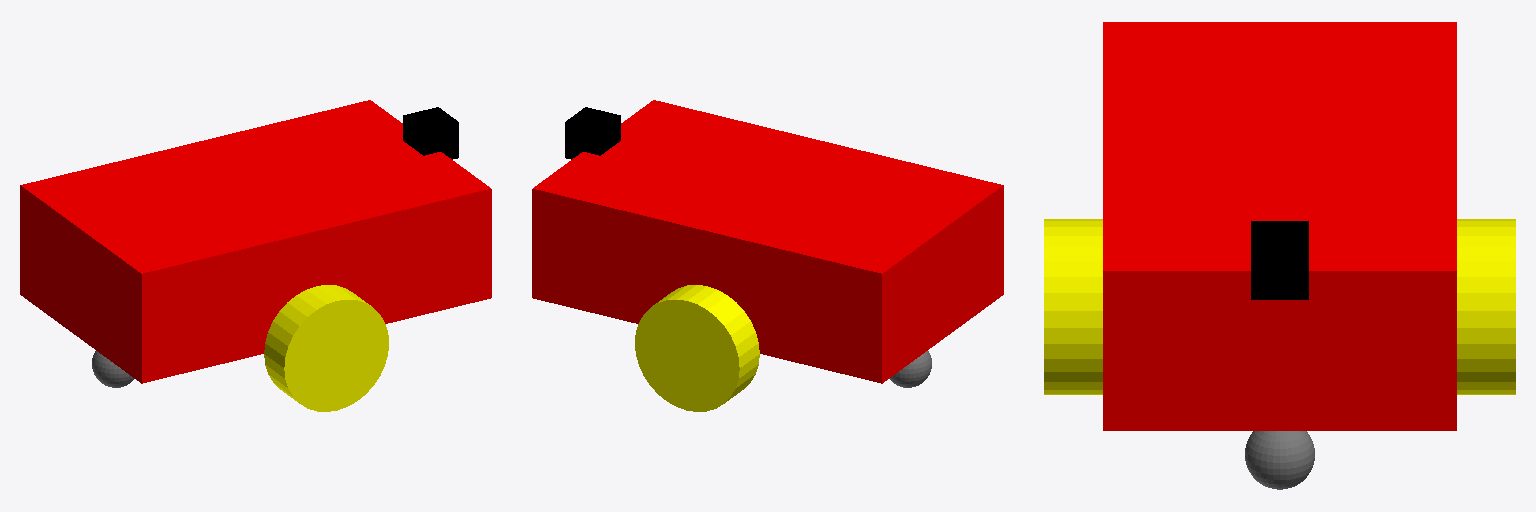
The robot description file, URDF, robot "ros_dd_gazebo":
<?xml version="1.0" ?>
<!-- =================================================================================== -->
<!-- |    This document was autogenerated by xacro from src/ros_dd_simulation/ros_dd_description/urdf/ros_dd.xacro | -->
<!-- |    EDITING THIS FILE BY HAND IS NOT RECOMMENDED                                 | -->
<!-- =================================================================================== -->
<robot name="ros_dd_gazebo">
  <link name="base_footprint"/>
  <link name="base_link">
    <visual>
      <origin rpy="0 0 0" xyz="0 0 0.075"/>
      <geometry>
        <box size="0.5 0.3 0.15"/>
      </geometry>
      <material name="red">
        <color rgba="1 0 0 1"/>
      </material>
    </visual>
    <collision>
      <origin rpy="0 0 0" xyz="0 0 0.075"/>
      <geometry>
        <box size="0.5 0.3 0.15"/>
      </geometry>
    </collision>
    <inertial>
      <origin rpy="0 0 0" xyz="0 0 0.075"/>
      <mass value="3.0"/>
      <inertia ixx="0.01" ixy="0.0" ixz="0.0" iyy="0.01" iyz="0.0" izz="0.01"/>
    </inertial>
  </link>
  <joint name="base_joint" type="fixed">
    <parent link="base_footprint"/>
    <child link="base_link"/>
    <origin rpy="0 0 0" xyz="0 0 0.075"/>
  </joint>
  <link name="left_wheel_link">
    <visual>
      <origin rpy="1.570795 0 0" xyz="0 0 0"/>
      <geometry>
        <cylinder length="0.05" radius="0.075"/>
      </geometry>
      <material name="yellow">
        <color rgba="1 1 0 1"/>
      </material>
    </visual>
    <collision>
      <origin rpy="1.570795 0 0" xyz="0 0 0"/>
      <geometry>
        <cylinder length="0.05" radius="0.075"/>
      </geometry>
    </collision>
    <inertial>
      <mass value="0.2"/>
      <inertia ixx="0.001" ixy="0.0" ixz="0.0" iyy="0.001" iyz="0.0" izz="0.001"/>
    </inertial>
  </link>
  <link name="right_wheel_link">
    <visual>
      <origin rpy="1.570795 0 0" xyz="0 0 0"/>
      <geometry>
        <cylinder length="0.05" radius="0.075"/>
      </geometry>
      <material name="yellow">
        <color rgba="1 1 0 1"/>
      </material>
    </visual>
    <collision>
      <origin rpy="1.570795 0 0" xyz="0 0 0"/>
      <geometry>
        <cylinder length="0.05" radius="0.075"/>
      </geometry>
    </collision>
    <inertial>
      <mass value="0.2"/>
      <inertia ixx="0.001" ixy="0.0" ixz="0.0" iyy="0.001" iyz="0.0" izz="0.001"/>
    </inertial>
  </link>
  <joint name="left_wheel_joint" type="continuous">
    <parent link="base_link"/>
    <child link="left_wheel_link"/>
    <origin rpy="0 0 0" xyz="0 0.175 0"/>
    <axis xyz="0 1 0"/>
  </joint>
  <joint name="right_wheel_joint" type="continuous">
    <parent link="base_link"/>
    <child link="right_wheel_link"/>
    <origin rpy="0 0 0" xyz="0 -0.175 0"/>
    <axis xyz="0 1 0"/>
  </joint>
  <link name="front_caster_link">
    <visual>
      <geometry>
        <sphere radius="0.03"/>
      </geometry>
      <material name="grey">
        <color rgba="0.5 0.5 0.5 1"/>
      </material>
    </visual>
    <collision>
      <geometry>
        <sphere radius="0.03"/>
      </geometry>
    </collision>
    <inertial>
      <mass value="0.1"/>
      <inertia ixx="0.0001" ixy="0.0" ixz="0.0" iyy="0.0001" iyz="0.0" izz="0.0001"/>
    </inertial>
  </link>
  <joint name="front_caster_joint" type="fixed">
    <parent link="base_link"/>
    <child link="front_caster_link"/>
    <origin xyz="0.2 0 -0.045"/>
  </joint>
  <link name="rear_caster_link">
    <visual>
      <geometry>
        <sphere radius="0.03"/>
      </geometry>
      <material name="grey">
        <color rgba="0.5 0.5 0.5 1"/>
      </material>
    </visual>
    <collision>
      <geometry>
        <sphere radius="0.03"/>
      </geometry>
    </collision>
    <inertial>
      <mass value="0.1"/>
      <inertia ixx="0.0001" ixy="0.0" ixz="0.0" iyy="0.0001" iyz="0.0" izz="0.0001"/>
    </inertial>
  </link>
  <joint name="rear_caster_joint" type="fixed">
    <parent link="base_link"/>
    <child link="rear_caster_link"/>
    <origin xyz="-0.2 0 -0.045"/>
  </joint>
  <link name="laser_link">
    <visual>
      <origin rpy="0 0 0" xyz="0 0 0"/>
      <geometry>
        <box size="0.05 0.05 0.05"/>
      </geometry>
      <material name="black">
        <color rgba="0 0 0 1"/>
      </material>
    </visual>
    <collision>
      <origin rpy="0 0 0" xyz="0 0 0"/>
      <geometry>
        <box size="0.05 0.05 0.05"/>
      </geometry>
    </collision>
    <inertial>
      <mass value="0.05"/>
      <inertia ixx="1e-4" ixy="0.0" ixz="0.0" iyy="1e-4" iyz="0.0" izz="1e-4"/>
    </inertial>
  </link>
  <joint name="laser_joint" type="fixed">
    <parent link="base_link"/>
    <child link="laser_link"/>
    <origin rpy="0 0 0" xyz="0.25 0 0.16"/>
  </joint>
  <gazebo reference="base_link">
    <self_collide>true</self_collide>
  </gazebo>
  <gazebo reference="left_wheel_link">
    <mu1>1.0</mu1>
    <mu2>1.0</mu2>
    <maxVel>1.0</maxVel>
    <minDepth>0.001</minDepth>
  </gazebo>
  <gazebo reference="right_wheel_link">
    <mu1>1.0</mu1>
    <mu2>1.0</mu2>
    <maxVel>1.0</maxVel>
    <minDepth>0.001</minDepth>
  </gazebo>
  <gazebo reference="front_caster_link">
    <mu1>0.0</mu1>
    <mu2>0.0</mu2>
    <maxVel>1.0</maxVel>
    <minDepth>0.001</minDepth>
  </gazebo>
  <gazebo reference="rear_caster_link">
    <mu1>0.0</mu1>
    <mu2>0.0</mu2>
    <maxVel>1.0</maxVel>
    <minDepth>0.001</minDepth>
  </gazebo>
  <!-- Gazebo Harmonic systems publish Gazebo Transport messages. -->
  <gazebo>
    <plugin filename="gz-sim-diff-drive-system" name="gz::sim::systems::DiffDrive">
      <left_joint>left_wheel_joint</left_joint>
      <right_joint>right_wheel_joint</right_joint>
      <wheel_separation>0.35</wheel_separation>
      <wheel_radius>0.075</wheel_radius>
      <topic>/cmd_vel</topic>
      <odom_topic>/odom</odom_topic>
      <tf_topic>/tf</tf_topic>
      <frame_id>odom</frame_id>
      <child_frame_id>base_footprint</child_frame_id>
      <odom_publish_frequency>50</odom_publish_frequency>
      <max_linear_acceleration>1.0</max_linear_acceleration>
      <max_angular_acceleration>3.2</max_angular_acceleration>
    </plugin>
    <plugin filename="gz-sim-joint-state-publisher-system" name="gz::sim::systems::JointStatePublisher">
      <topic>/joint_states</topic>
      <joint_name>left_wheel_joint</joint_name>
      <joint_name>right_wheel_joint</joint_name>
    </plugin>
  </gazebo>
  <gazebo reference="base_link">
    <sensor name="imu_sensor" type="imu">
      <always_on>true</always_on>
      <update_rate>100</update_rate>
      <topic>/imu/data</topic>
      <gz_frame_id>base_link</gz_frame_id>
      <imu/>
    </sensor>
  </gazebo>
  <gazebo reference="laser_link">
    <sensor name="laser_sensor" type="gpu_lidar">
      <pose>0 0 0 0 0 0</pose>
      <visualize>true</visualize>
      <update_rate>10</update_rate>
      <always_on>1</always_on>
      <lidar>
        <scan>
          <horizontal>
            <samples>360</samples>
            <resolution>1</resolution>
            <min_angle>-3.14159</min_angle>
            <max_angle>3.14159</max_angle>
          </horizontal>
        </scan>
        <range>
          <min>0.05</min>
          <max>8.0</max>
          <resolution>0.01</resolution>
        </range>
        <noise>
          <type>gaussian</type>
          <mean>0.0</mean>
          <stddev>0.01</stddev>
        </noise>
      </lidar>
      <topic>/scan</topic>
      <gz_frame_id>laser_link</gz_frame_id>
    </sensor>
  </gazebo>
</robot>

--- What the picture shows (computed from the rendered views, not written in the file) ---
The picture shows the robot from 3 angles, left to right: view 1: azimuth 30°, elevation 25°; view 2: azimuth 150°, elevation 25°; view 3: azimuth 270°, elevation 25°; orthographic projection.
Model ros_dd_gazebo with 7 links and 6 joints (2 continuous, 4 fixed), rooted at base_footprint, posed all joints at 0.
Visible links, largest first — view 1: base_link, right_wheel_link, laser_link, rear_caster_link; view 2: base_link, left_wheel_link, laser_link, rear_caster_link; view 3: base_link, left_wheel_link, right_wheel_link, laser_link, front_caster_link.
Boxes of the visible links, x1,y1,x2,y2 form: base_link: (20, 100, 491, 383); right_wheel_link: (264, 285, 388, 411); laser_link: (403, 107, 458, 159); rear_caster_link: (92, 351, 134, 387); base_link: (532, 100, 1003, 383); left_wheel_link: (635, 285, 759, 411); laser_link: (565, 107, 620, 159); rear_caster_link: (889, 351, 931, 387); base_link: (1103, 22, 1456, 430); left_wheel_link: (1457, 219, 1515, 394); right_wheel_link: (1044, 219, 1102, 394); laser_link: (1251, 221, 1308, 299); front_caster_link: (1245, 431, 1314, 489).
Bounding box of the posed robot: 0.525 × 0.4 × 0.26 m (x, y, z).
Geometry: primitives only (box / cylinder / sphere), no mesh files.
